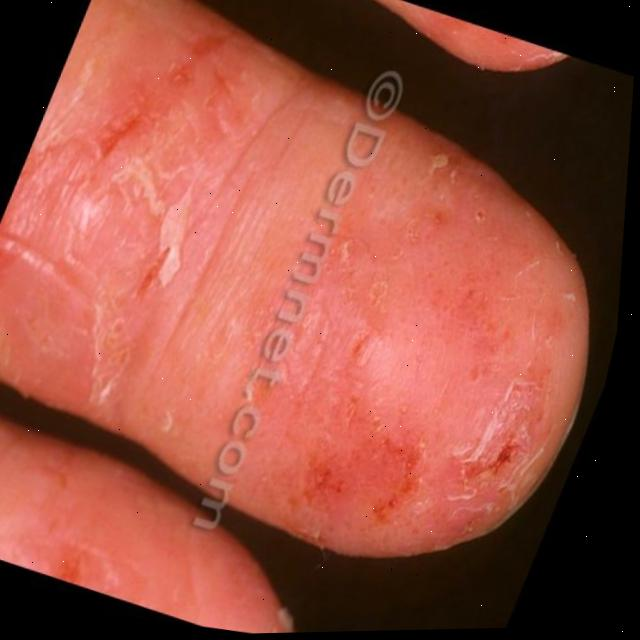Eczema: (9, 9, 239, 418), (299, 226, 578, 506)
